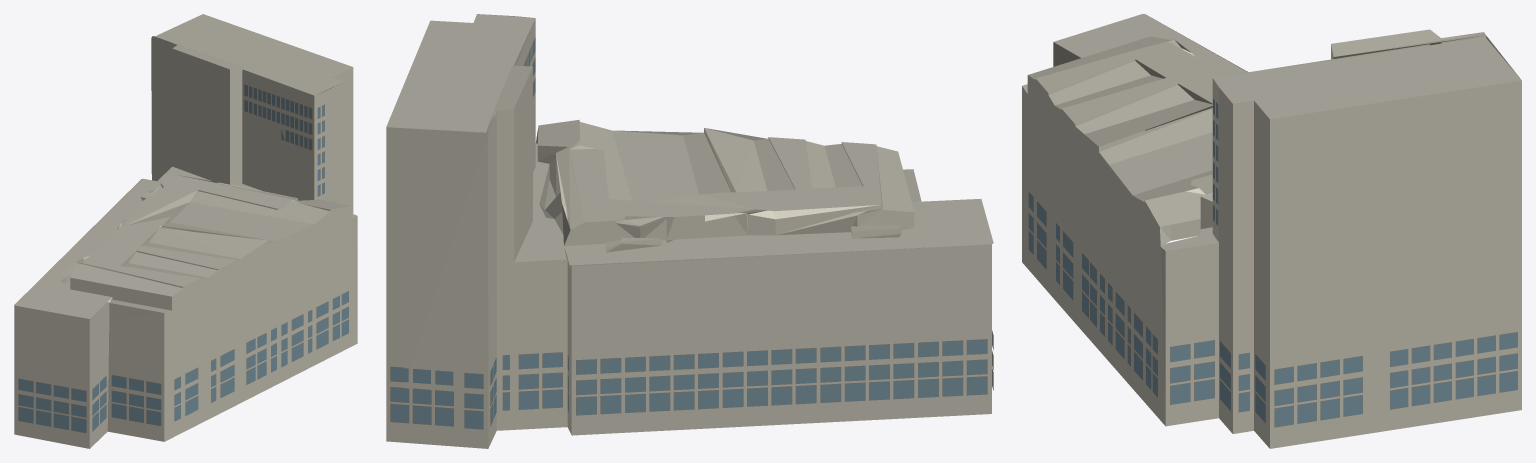
Rendered from hva-rhijnspoorplein-2.lod1.glb.
3 renders of one model, left to right at view 1: azimuth 30°, elevation 25°; view 2: azimuth 150°, elevation 25°; view 3: azimuth 270°, elevation 25°, orthographic. The views are drawn at different scales.
Visible parts, largest first — view 1: hva-rhijnspoorplein-2; view 2: hva-rhijnspoorplein-2; view 3: hva-rhijnspoorplein-2.
Boxes of the visible parts, left/top/right/bottom form: hva-rhijnspoorplein-2: left=14, top=14, right=357, bottom=448; hva-rhijnspoorplein-2: left=386, top=14, right=993, bottom=448; hva-rhijnspoorplein-2: left=1022, top=14, right=1521, bottom=448.
Bounding box in the file's own units: 90.63 × 55.5 × 74.48.
